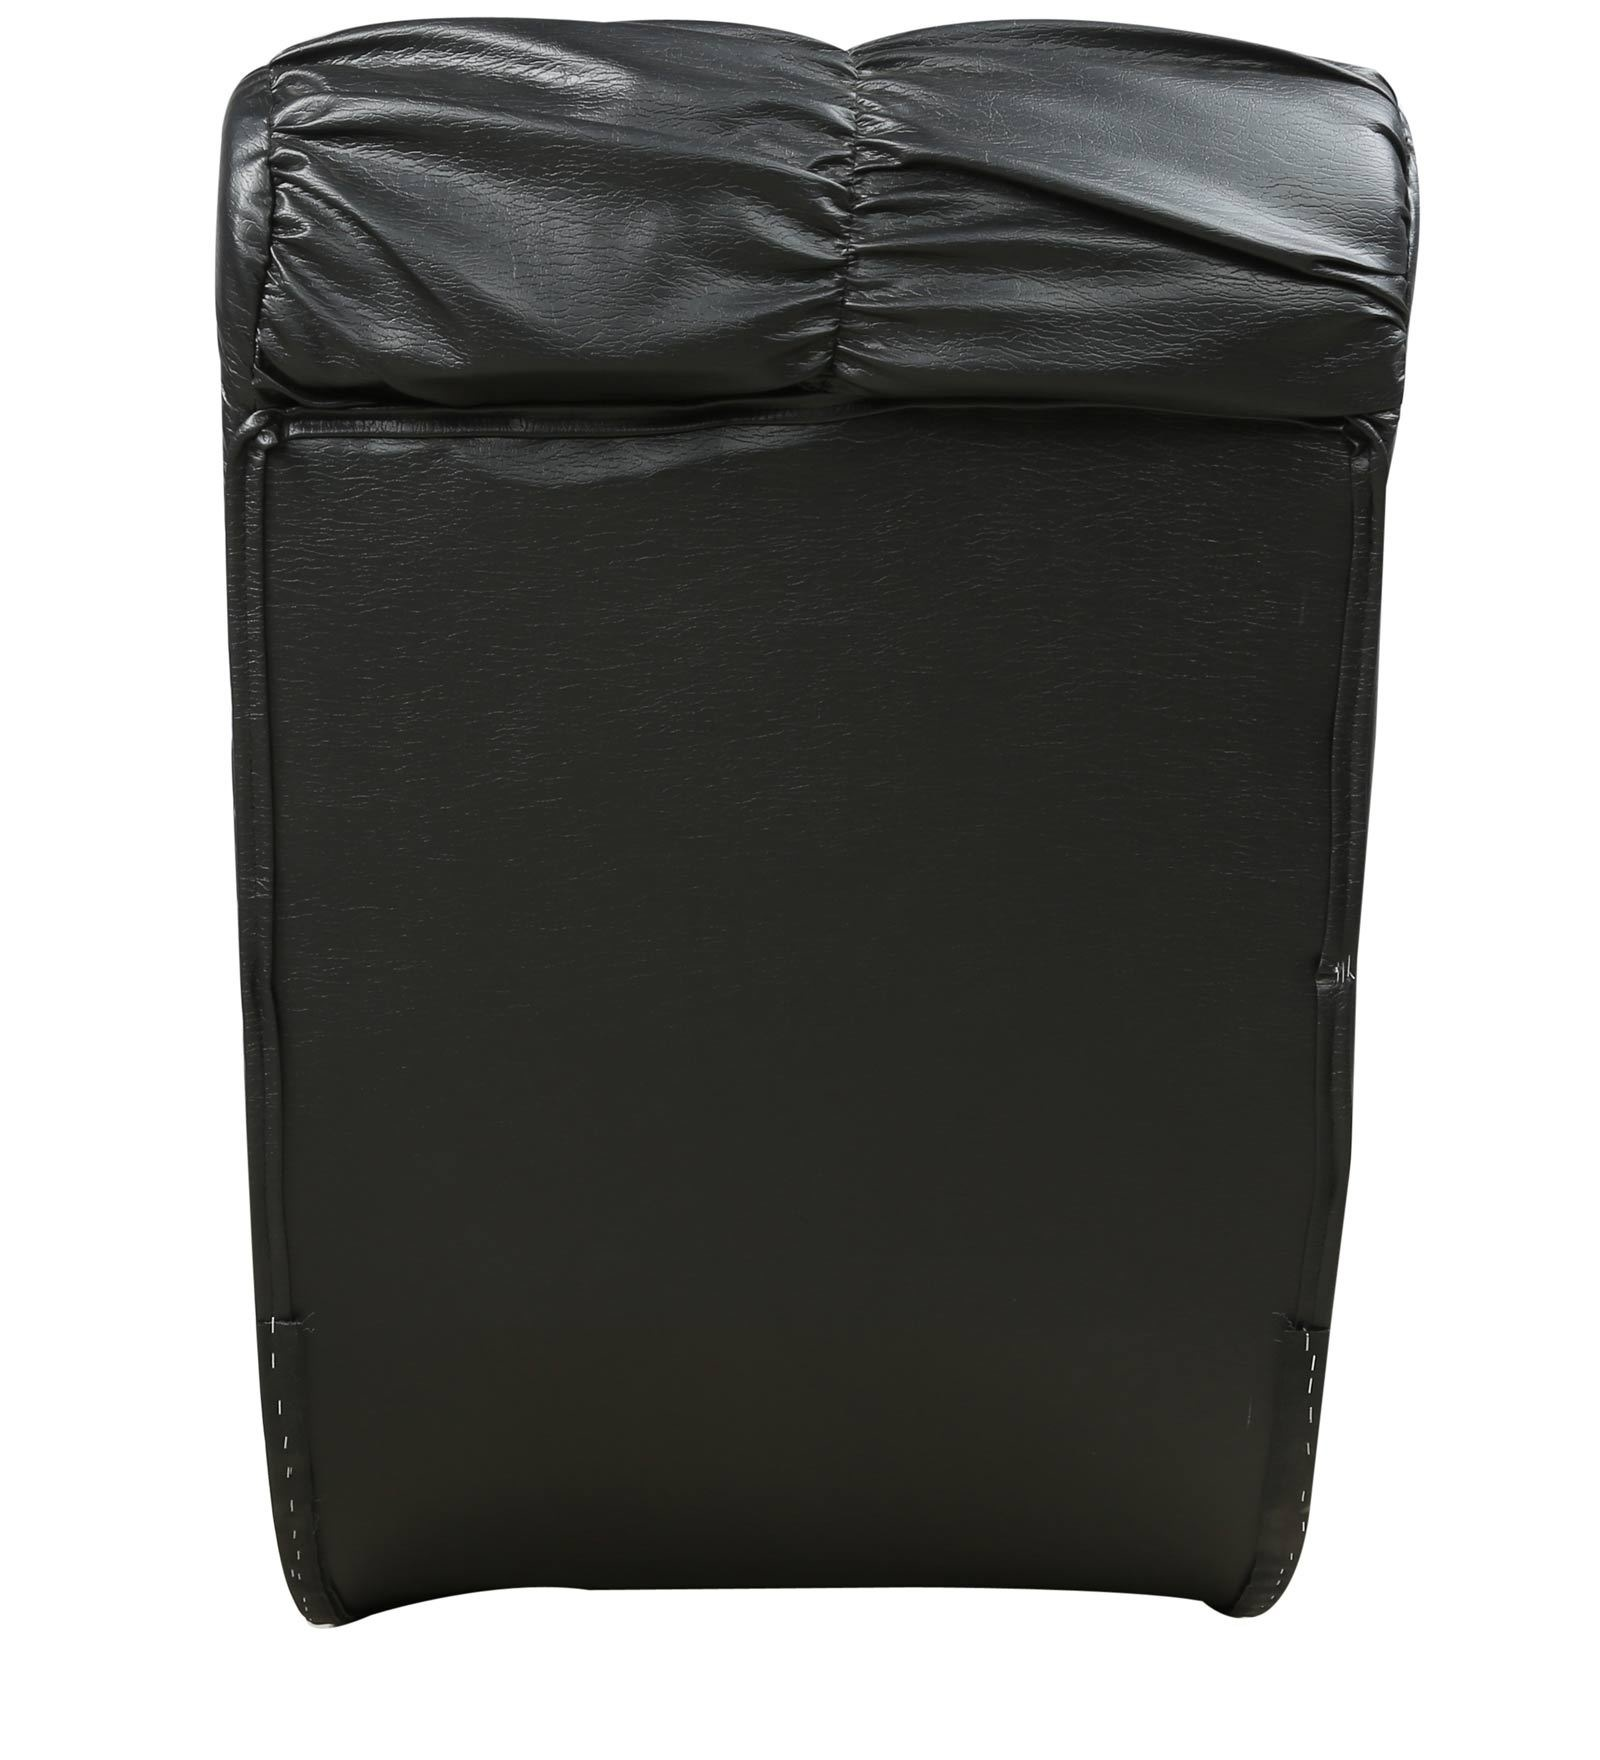Daisy Rocking Chair in Black Colour by Parin: (100, 5, 1392, 1685)
